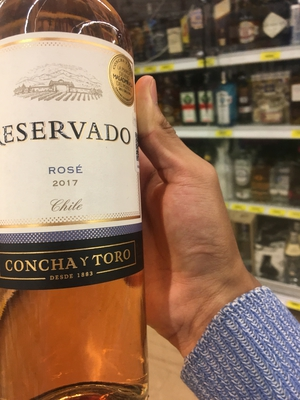reservado rose: (1, 19, 144, 400)
